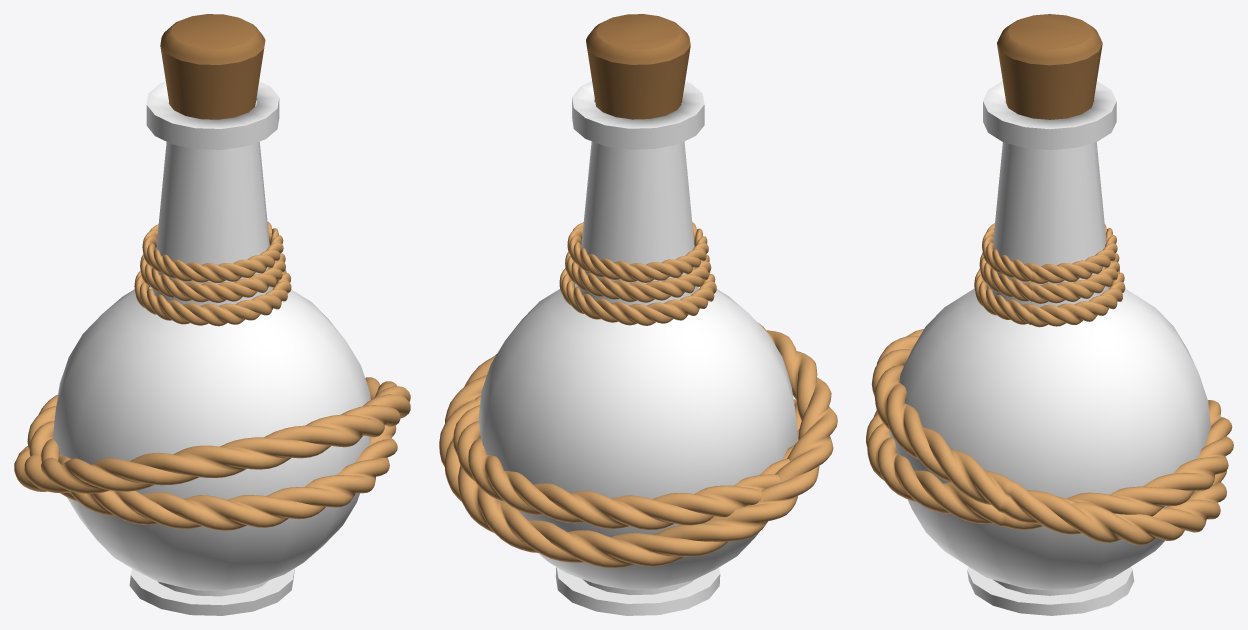
The model's file is botlesposion.fbx.
3 renders of one model, left to right at view 1: azimuth 30°, elevation 25°; view 2: azimuth 150°, elevation 25°; view 3: azimuth 270°, elevation 25°, orthographic.
Parts seen in each view (by area): view 1: Sphere, Circle.002, Circle.004, Sphere.001, Circle.005, Circle.007, Circle.006; view 2: Sphere, Circle.002, Circle.004, Sphere.001, Circle.005, Circle.007, Circle.006; view 3: Sphere, Circle.002, Circle.004, Sphere.001, Circle.005, Circle.007, Circle.006.
Boxes of the visible parts, x1,y1,x2,y2 form: Sphere: [52, 81, 370, 615]; Circle.002: [14, 377, 410, 493]; Circle.004: [27, 394, 397, 530]; Sphere.001: [160, 14, 265, 119]; Circle.005: [134, 269, 291, 326]; Circle.007: [142, 221, 283, 282]; Circle.006: [140, 248, 285, 302]; Sphere: [478, 81, 798, 615]; Circle.002: [439, 323, 837, 567]; Circle.004: [453, 395, 801, 530]; Sphere.001: [586, 14, 690, 119]; Circle.005: [559, 268, 716, 325]; Circle.007: [567, 222, 708, 282]; Circle.006: [565, 244, 711, 302]; Sphere: [888, 81, 1210, 615]; Circle.002: [871, 329, 1226, 545]; Circle.004: [866, 400, 1233, 529]; Sphere.001: [997, 14, 1102, 119]; Circle.005: [974, 268, 1125, 327]; Circle.007: [982, 223, 1117, 283]; Circle.006: [979, 253, 1119, 303].
Size of the model in its own units: 42.55 by 63.28 by 38.39.
